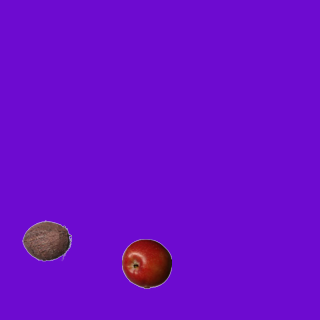Apple Braeburn: (121, 238, 171, 288)
Cocos: (21, 215, 71, 265)
